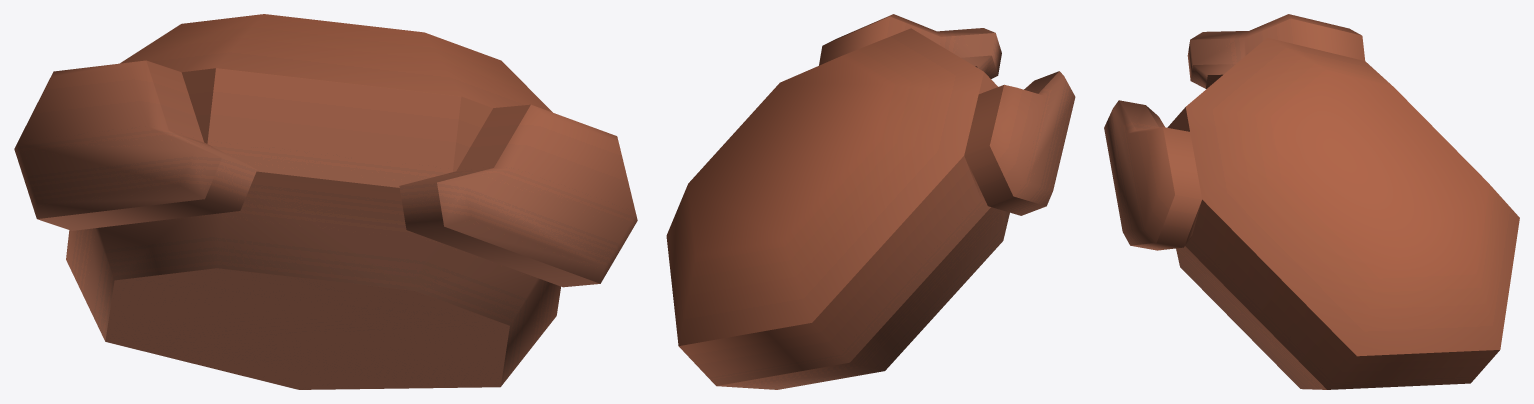
File: turkey.glb
3 views of the same model, side by side, from view 1: azimuth 30°, elevation 25°; view 2: azimuth 150°, elevation 25°; view 3: azimuth 270°, elevation 25° (orthographic). The views are drawn at different scales.
Parts seen in each view (by area): view 1: turkey; view 2: turkey; view 3: turkey.
Part boxes in pixels (x1,y1,x2,y2): turkey: [14, 14, 637, 389]; turkey: [666, 14, 1075, 389]; turkey: [1104, 14, 1519, 389].
Bounding box in the file's own units: 2.77 × 2.17 × 2.83.
1 material, 1 textured.
